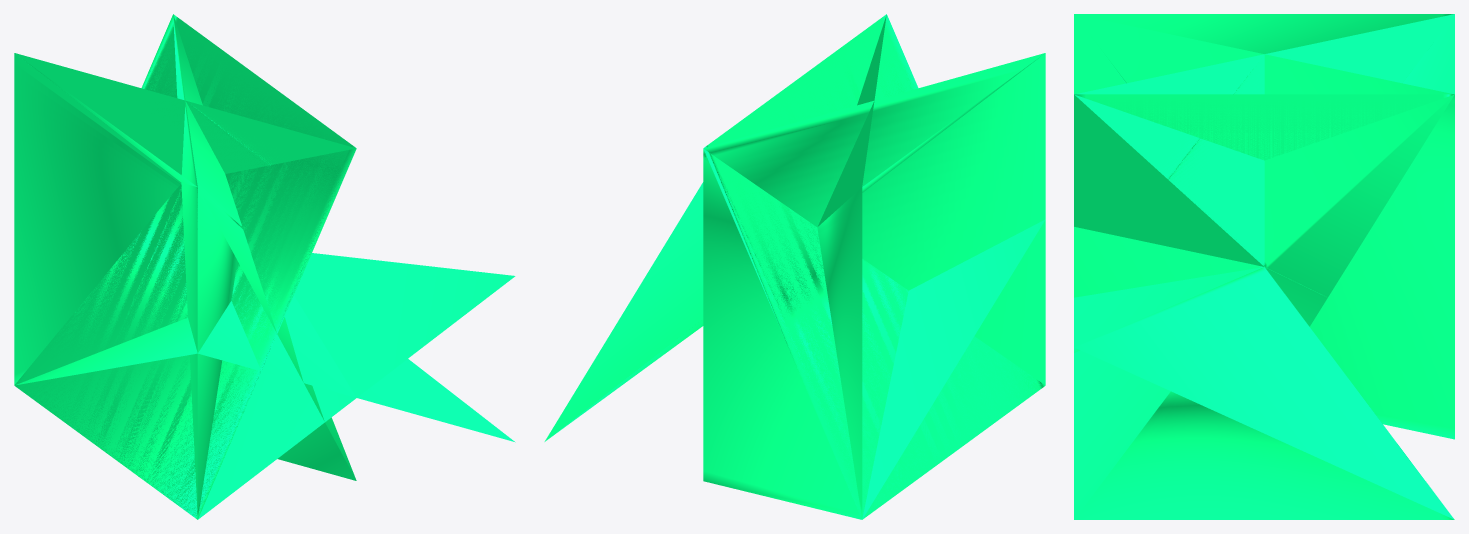
Rendered from tesseract_projectable_ar_universal.glb.
The picture shows the model from 3 angles, left to right: view 1: azimuth 30°, elevation 25°; view 2: azimuth 150°, elevation 25°; view 3: azimuth 270°, elevation 25°; orthographic projection. The views are drawn at different scales.
Visible parts, largest first — view 1: tesseract_projectable_ar; view 2: tesseract_projectable_ar; view 3: tesseract_projectable_ar.
Boxes of the visible parts, box(x1,y1,x2,y2) form: tesseract_projectable_ar: box(14, 14, 515, 519); tesseract_projectable_ar: box(544, 14, 1045, 519); tesseract_projectable_ar: box(1074, 14, 1454, 519).
Size of the model in its own units: 1 by 1 by 1.
